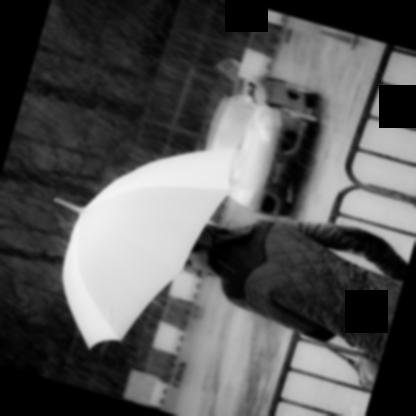handbag: (311, 337, 380, 394)
